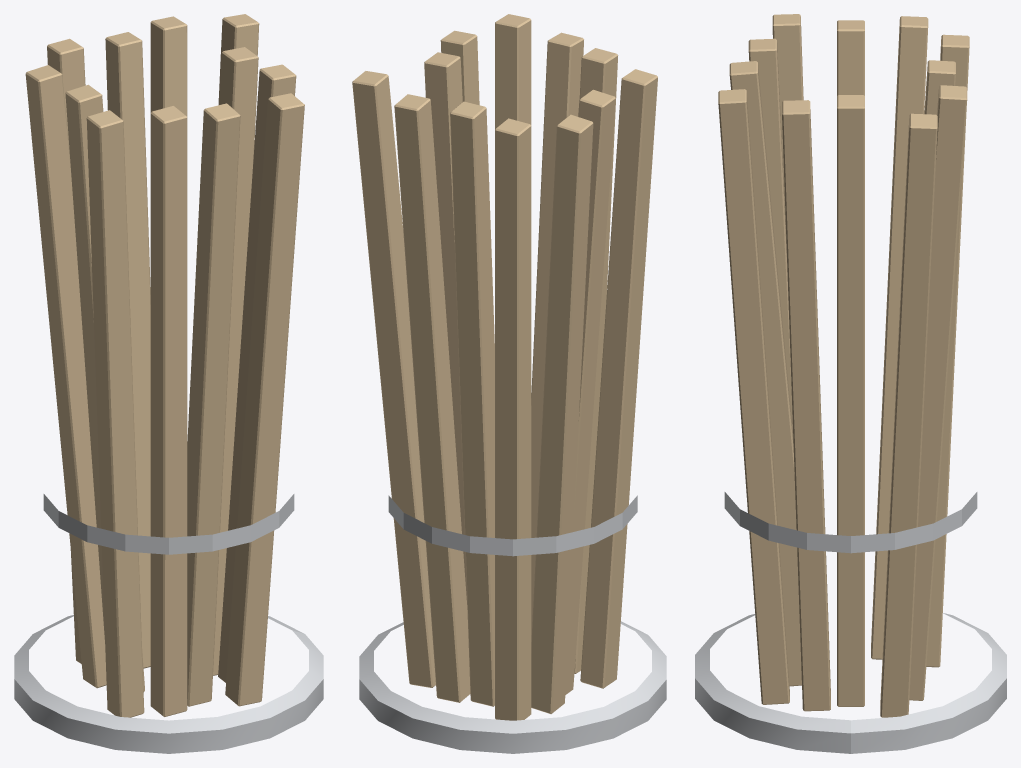
3 renders of one model, left to right at view 1: azimuth 30°, elevation 25°; view 2: azimuth 150°, elevation 25°; view 3: azimuth 270°, elevation 25°, orthographic.
Visible parts, largest first — view 1: fence-post-bundle; view 2: fence-post-bundle; view 3: fence-post-bundle.
Boxes of the visible parts, bbox=[...] form: fence-post-bundle: bbox=[14, 14, 323, 753]; fence-post-bundle: bbox=[352, 14, 666, 753]; fence-post-bundle: bbox=[695, 14, 1006, 753].
Bounding box in the file's own units: 0.84 × 1.82 × 0.8273.
